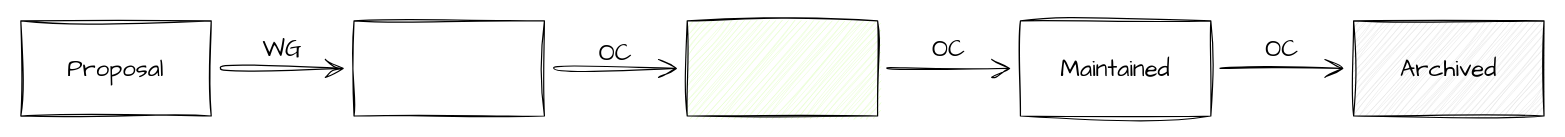
The diagram is 1565 pixels wide and 137 high, and some of its shapes have lost their labels. The shapes that lost their labels are listed below. From the top down, each one's centre as x and y in pixels, then its label:
[448,68]: Incubation
[782,68]: Graduated
